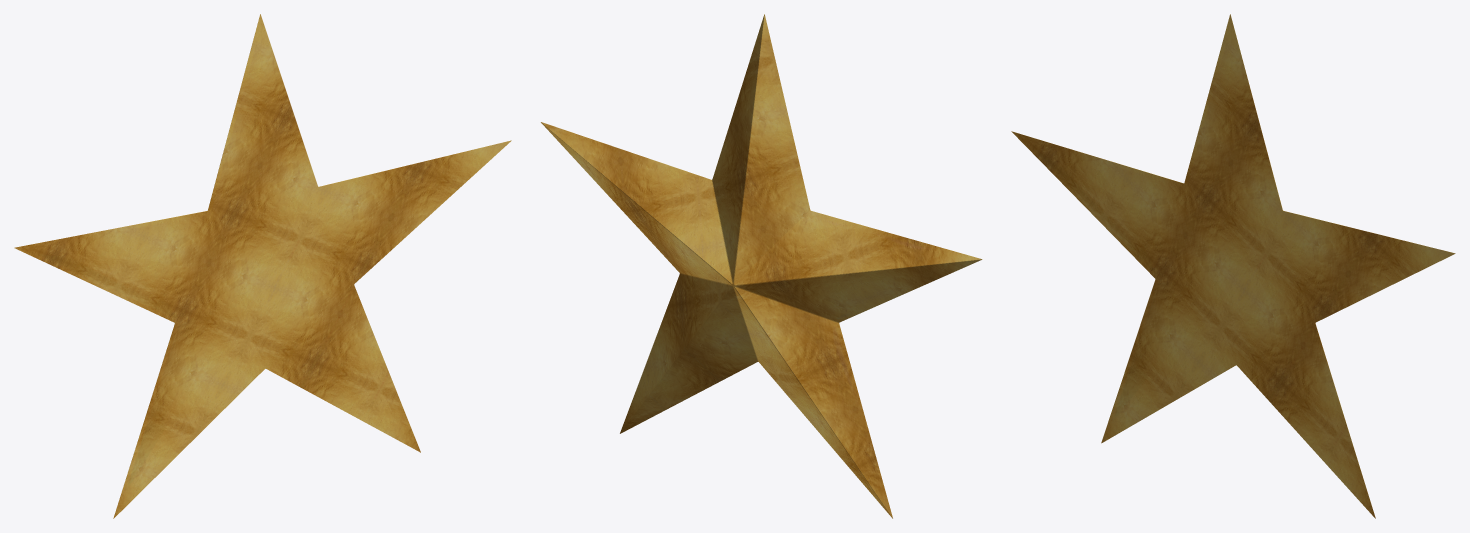
Rendered from gold_star.obj.
The picture shows the model from 3 angles, left to right: view 1: azimuth 30°, elevation 25°; view 2: azimuth 150°, elevation 25°; view 3: azimuth 330°, elevation 25°; orthographic projection. The views are drawn at different scales.
Visible parts, largest first — view 1: gold_star; view 2: gold_star; view 3: gold_star.
Boxes of the visible parts, <box> form: gold_star: <box>14,14,511,518</box>; gold_star: <box>541,14,982,518</box>; gold_star: <box>1011,14,1455,518</box>.
Size of the model in its own units: 2.61 by 2.51 by 0.3367.
Materials: 1 (1 with a texture image).
